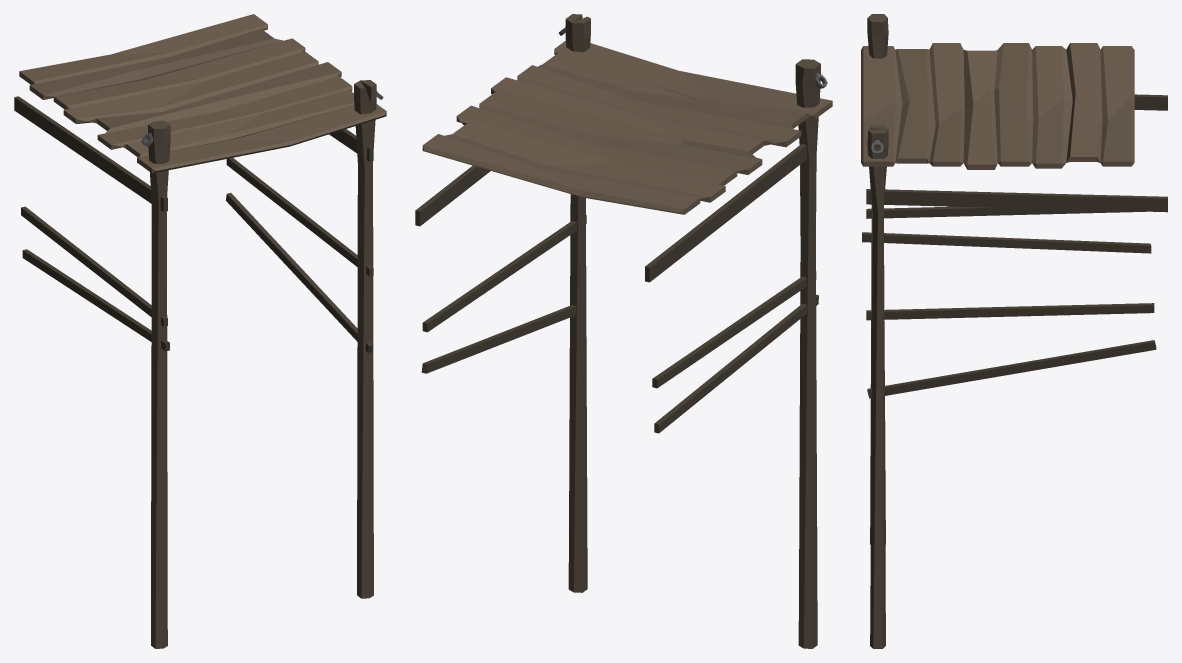
Rendered from SM_Bld_Dock_02.glb.
The picture shows the model from 3 angles, left to right: view 1: azimuth 30°, elevation 25°; view 2: azimuth 150°, elevation 25°; view 3: azimuth 270°, elevation 25°; orthographic projection. The views are drawn at different scales.
Visible parts, largest first — view 1: SM_Bld_Dock_02; view 2: SM_Bld_Dock_02; view 3: SM_Bld_Dock_02.
Boxes of the visible parts, box(x1,y1,x2,y2) form: SM_Bld_Dock_02: box(14, 14, 386, 648); SM_Bld_Dock_02: box(415, 14, 832, 648); SM_Bld_Dock_02: box(861, 14, 1167, 648).
Size of the model in its own units: 0.0381 by 0.0767 by 0.0406.
